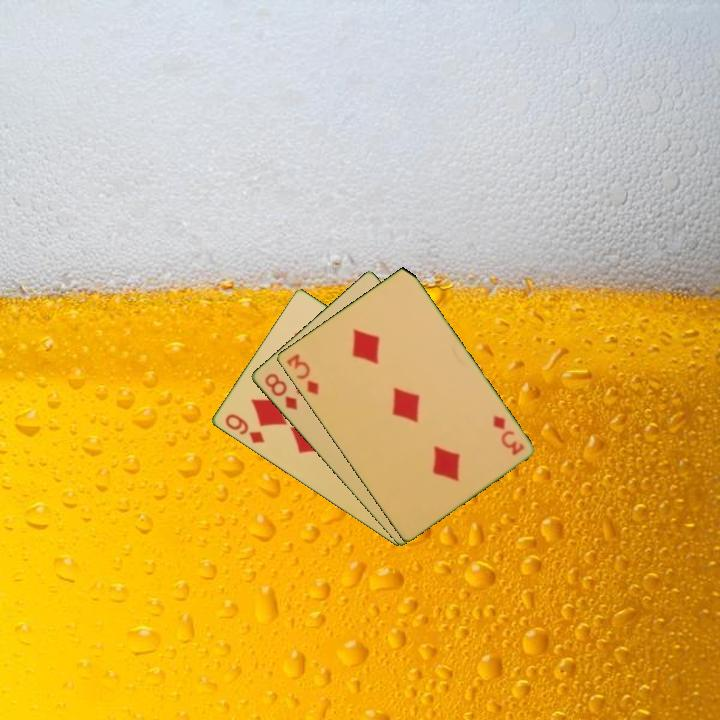3d: (282, 350, 321, 398), (489, 412, 527, 458)
8d: (261, 369, 300, 413)
9d: (221, 410, 267, 447)
